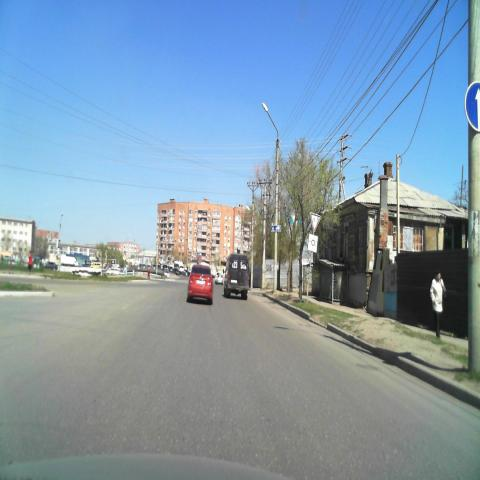8_13_1: (308, 234, 318, 254)
